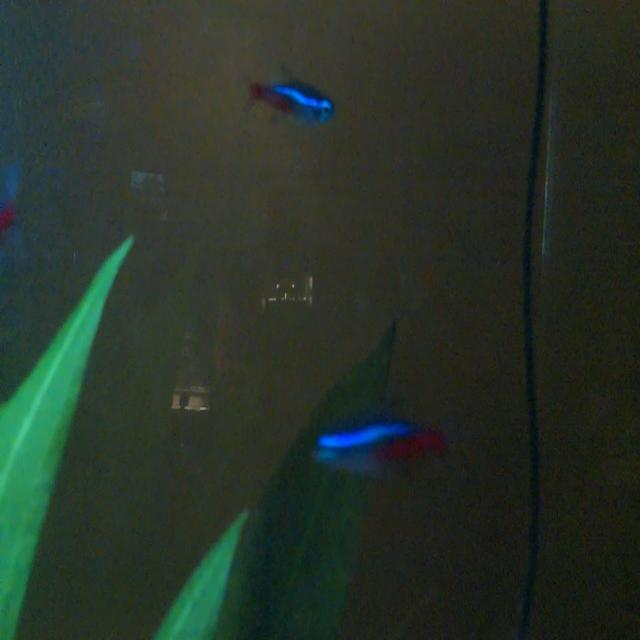fish: (242, 53, 344, 133), (308, 426, 454, 469)
